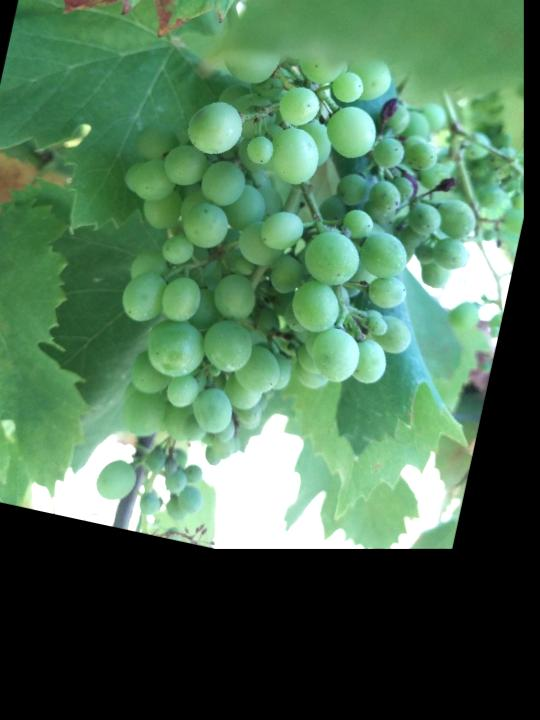grape: (68, 12, 510, 510)
